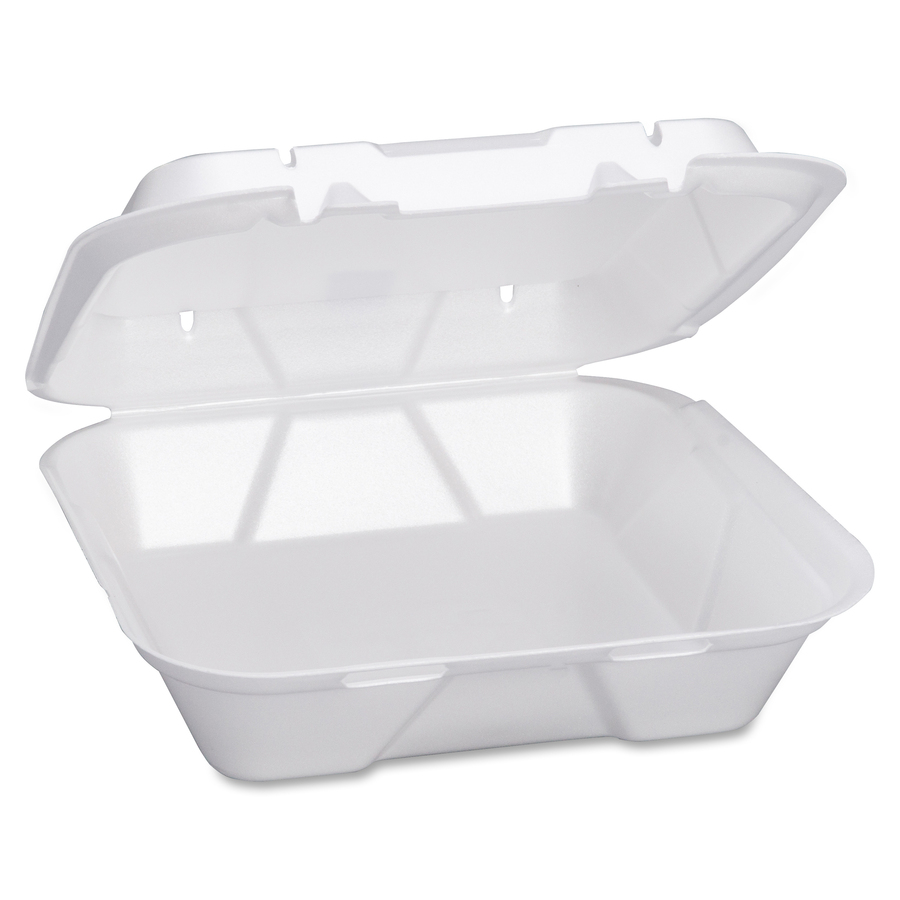styrofoam: (24, 105, 873, 782)
